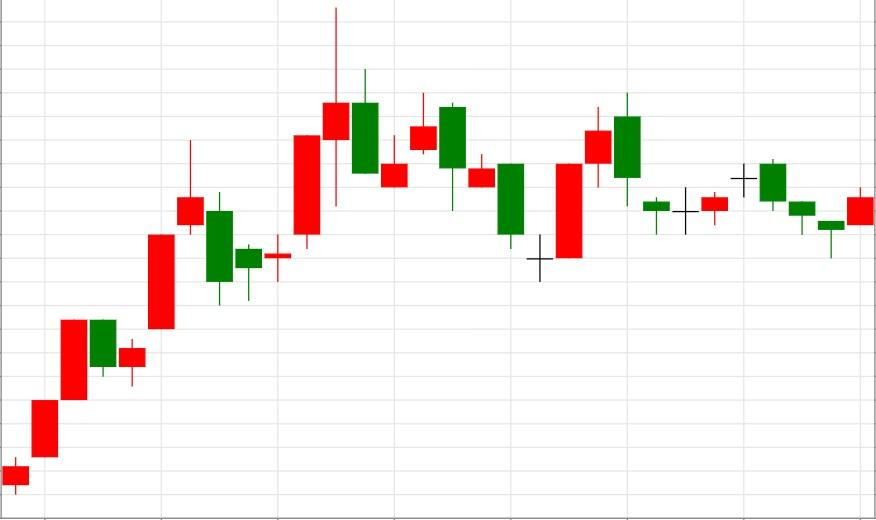bearish_engulfing_fall: (526, 93, 642, 282)
morning_star_rise: (409, 92, 584, 282)
